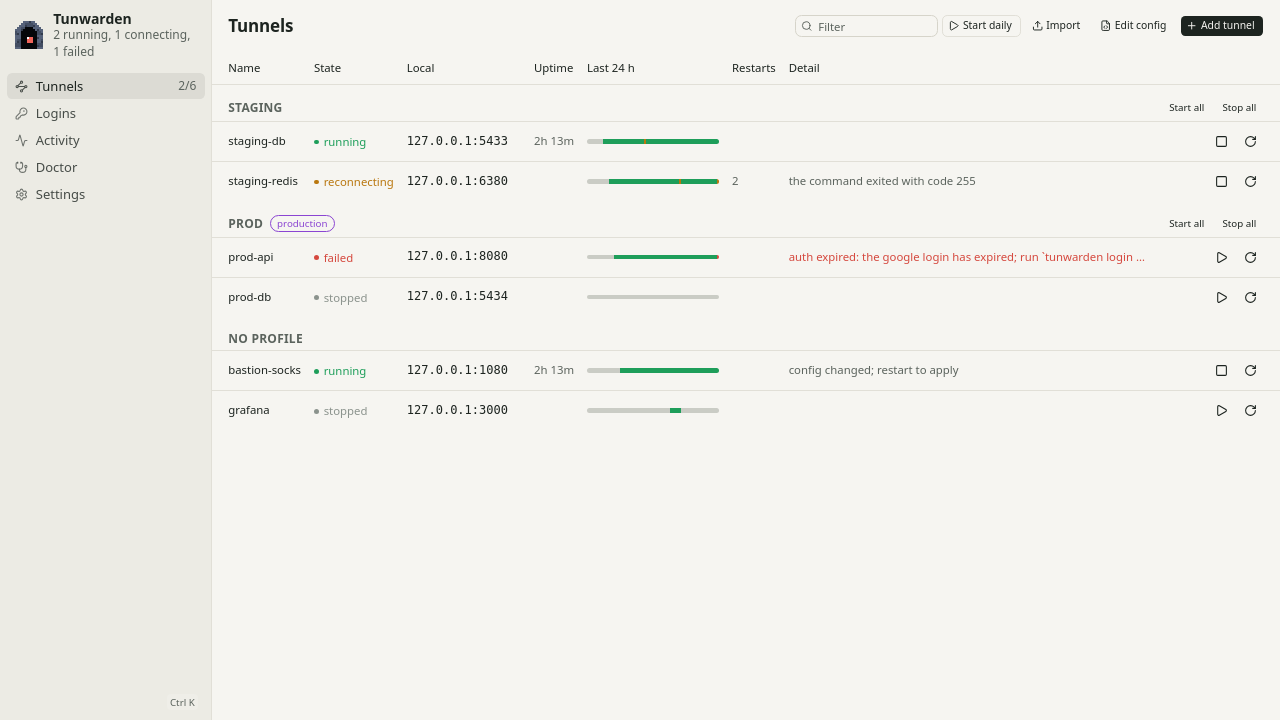
Scenario: dashboard against the mock daemon › groups tunnels, and asks before starting a production one
Later steps or results of the test are not shown.
expect the button "staging-db" is shown: met, box [228,133,286,149]
expect the text "No profile" is shown: met, box [228,330,303,347]
Click the button named "Start prod-db" at (1222, 297), box [1208,284,1234,310]
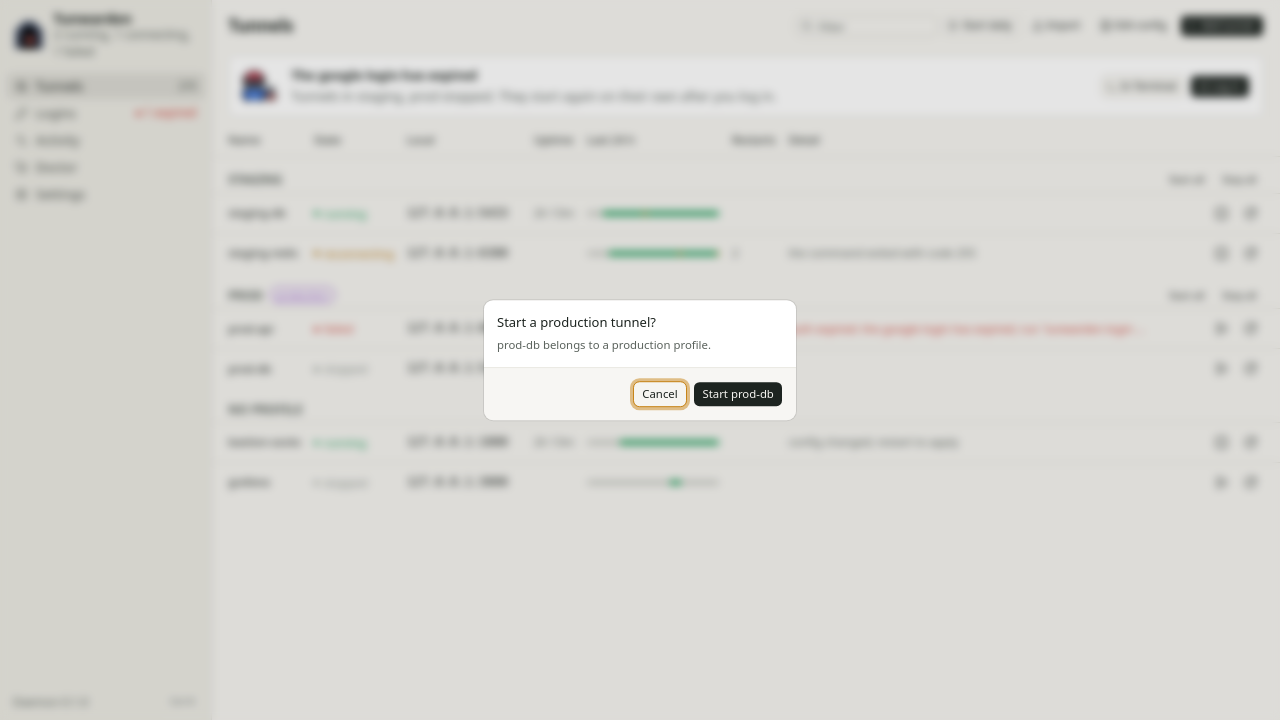
expect the heading "Start a production tunnel?" is shown: met, box [497,313,656,333]
